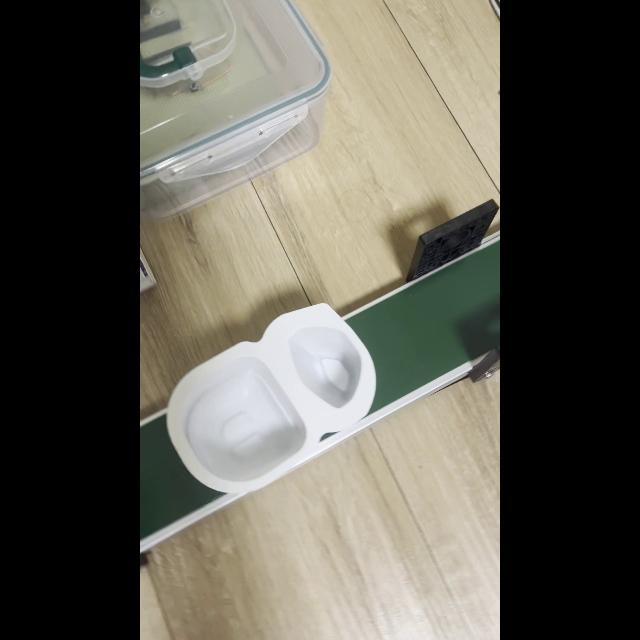clean: (163, 306, 374, 490)
